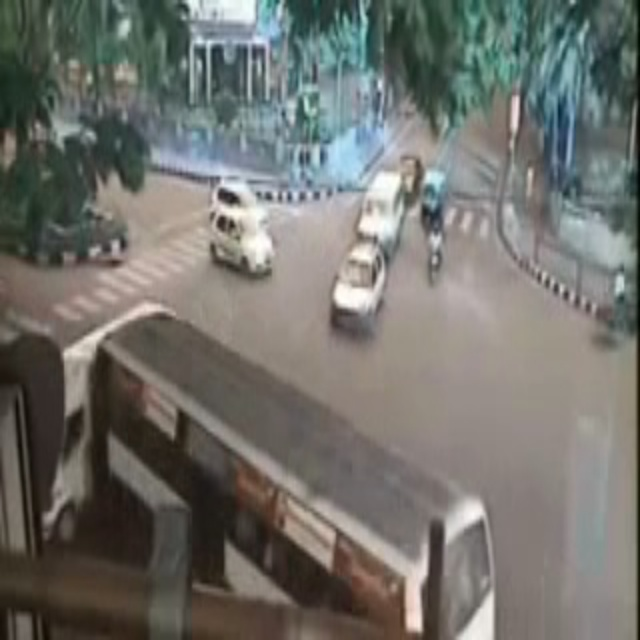acc: (52, 298, 184, 530)
